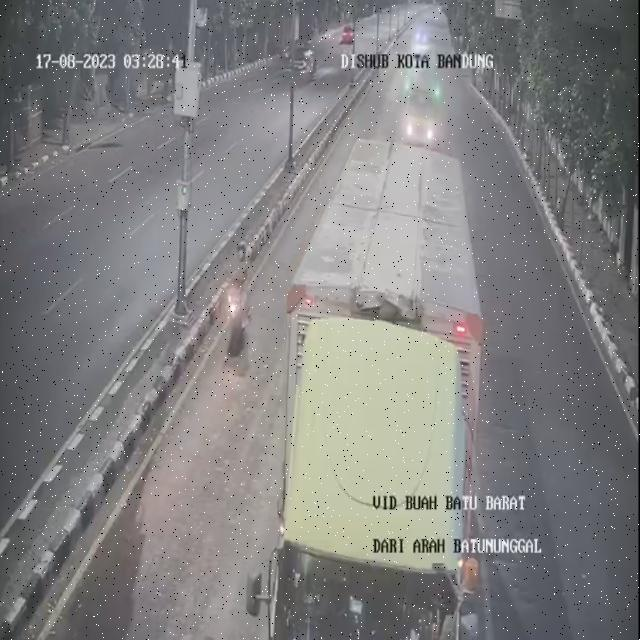cars: (398, 70, 448, 164), (412, 20, 434, 61)
motorcycle: (216, 238, 266, 366)
truck: (273, 117, 503, 640)
